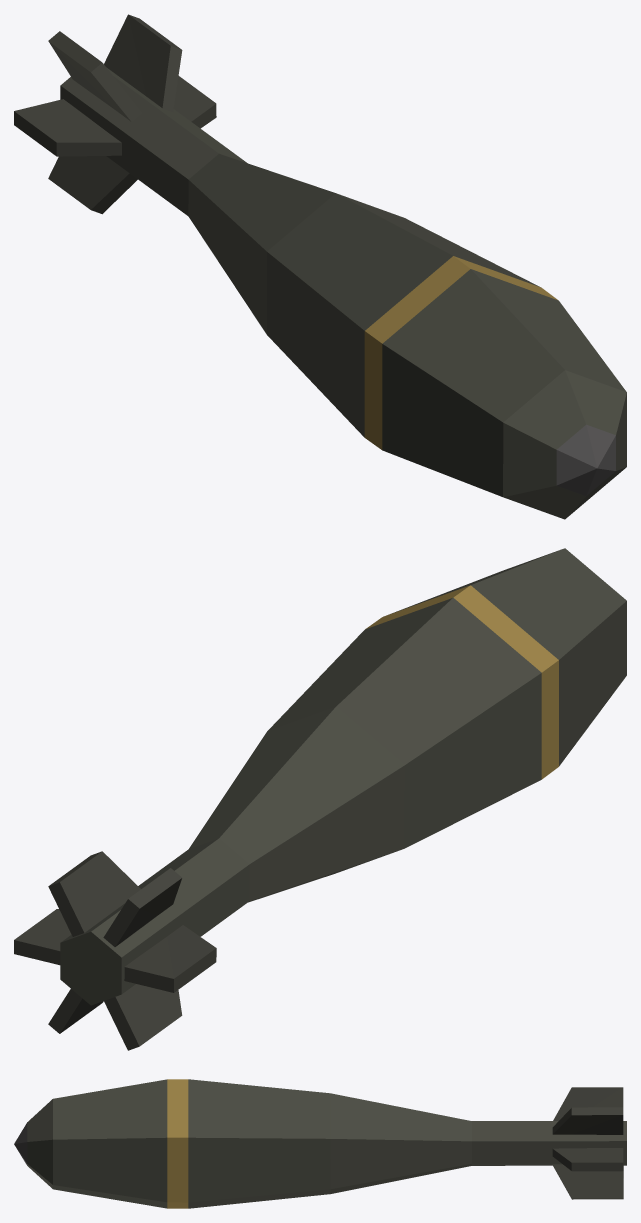
File: SM_Prop_Mortar_Shell_01.fbx
3 views of the same model, one above another, from view 1: azimuth 30°, elevation 25°; view 2: azimuth 150°, elevation 25°; view 3: azimuth 270°, elevation 25° (orthographic). The views are drawn at different scales.
Parts seen in each view (by area): view 1: SM_Prop_Mortar_Shell_01; view 2: SM_Prop_Mortar_Shell_01; view 3: SM_Prop_Mortar_Shell_01.
Part boxes in pixels (x1,y1,x2,y2): SM_Prop_Mortar_Shell_01: (14, 14, 626, 519); SM_Prop_Mortar_Shell_01: (14, 548, 626, 1050); SM_Prop_Mortar_Shell_01: (14, 1079, 626, 1208).
Size of the model in its own units: 9.59 by 11.07 by 47.49.
